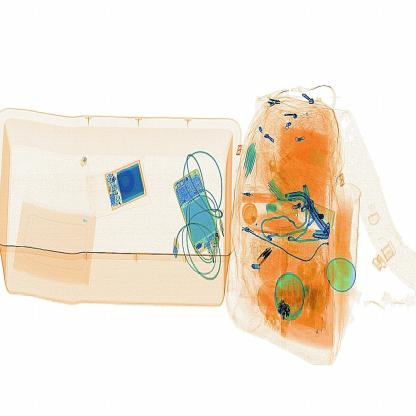wrench: (254, 241, 278, 270)
